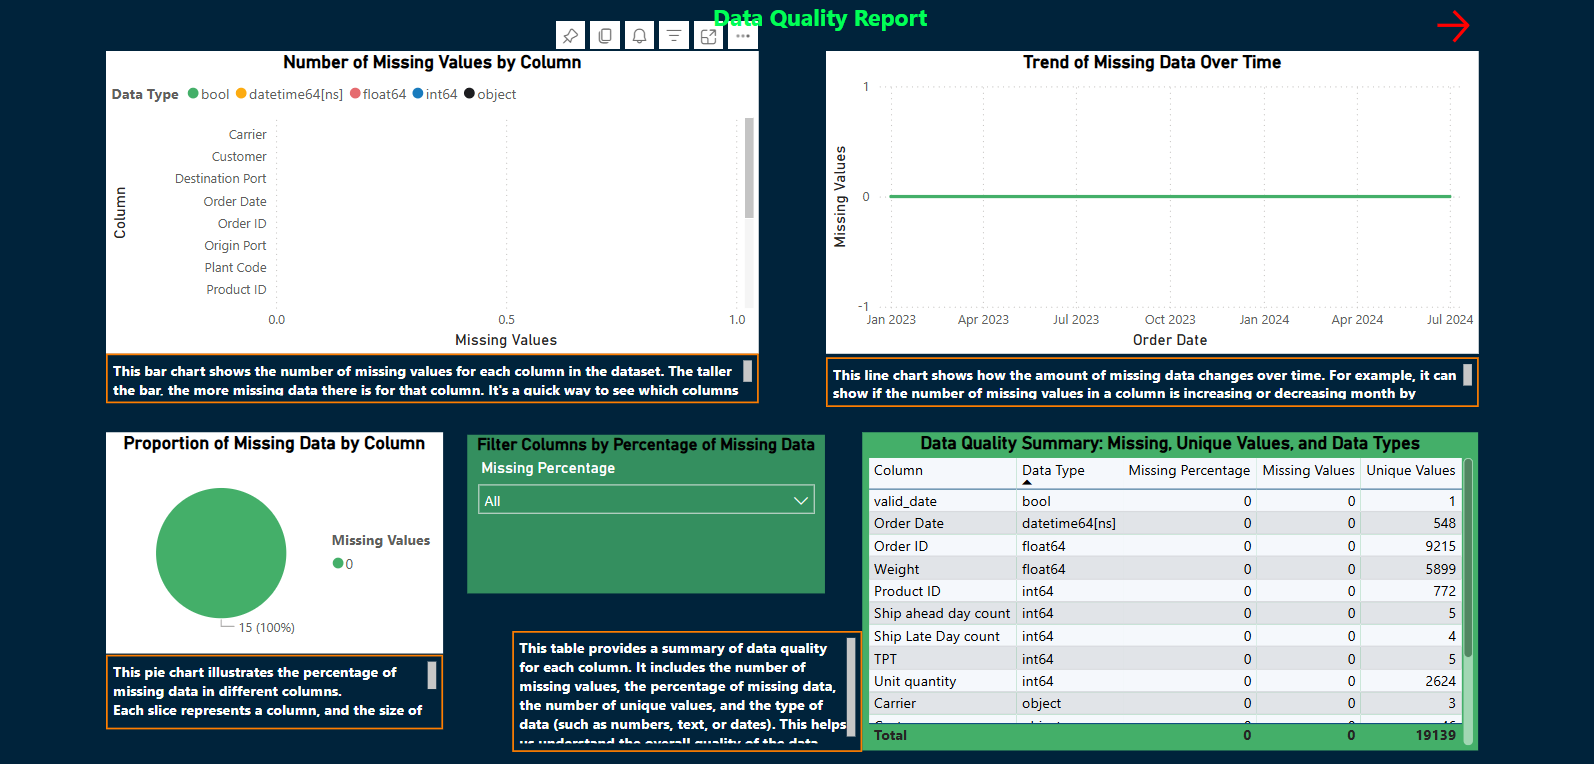

What the dashboard file says about the page in this screenshot:
{"tool":"powerbi","page":{"name":"Data Quality Report","canvas":[1280,720],"ordinal":1},"visuals":[{"type":"actionButton","box":[1236.3,8.6,41.6,40.4],"z":0},{"type":"clusteredBarChart","title":"Number of Missing Values by Column","fields":{"Y":["Sum(data_quality_report.Missing Values)"],"Category":["data_quality_report.Column"],"Series":["data_quality_report.Data Type"]},"box":[0,51.4,609,282.5],"z":1000},{"type":"pieChart","title":"Proportion of Missing Data by Column","fields":{"Y":["CountNonNull(data_quality_report.Column)"],"Category":["data_quality_report.Missing Values"]},"box":[0,407.4,314.3,206.7],"z":2000},{"type":"slicer","title":" Filter Columns by Percentage of Missing Data","fields":{"Values":["data_quality_report.Missing Percentage"]},"box":[337.5,408.7,333.8,148],"z":3000},{"type":"lineChart","title":"Trend of Missing Data Over Time","fields":{"Category":["Delivery_Time_Prediction_Data.Order Date"],"Y":["Sum(data_quality_report.Missing Values)"]},"box":[671.3,51.4,609,282.5],"z":4000},{"type":"textbox","box":[0,333.8,609,46.5],"z":5000},{"type":"textbox","box":[809.5,525.8,337.5,73.4],"z":6000},{"type":"tableEx","title":"Data Quality Summary: Missing, Unique Values, and Data Types","fields":{"Values":["data_quality_report.Column","data_quality_report.Data Type","Sum(data_quality_report.Missing Percentage)","Sum(data_quality_report.Missing Values)","Sum(data_quality_report.Unique Values)"]},"box":[705.6,407.4,574.7,297.1],"z":7000},{"type":"textbox","box":[671.3,337.5,609,46.5],"z":8000},{"type":"textbox","box":[0,614.1,314.3,69.7],"z":9000},{"type":"textbox","box":[379.1,592.1,326.5,112.5],"z":10000},{"type":"textbox","box":[377.2,0,576.7,40.4],"z":11000}]}

Visuals, with their boxes on the page's 1280x720 design canvas (x1, y1, x2, y2). These are canvas units, not pixel positions in the 1594x764 screenshot, which may show the page scaled, cropped or inside an application window:
actionButton: [x1=1236, y1=9, x2=1278, y2=49]
"Number of Missing Values by Column" clusteredBarChart: [x1=0, y1=51, x2=609, y2=334]
"Proportion of Missing Data by Column" pieChart: [x1=0, y1=407, x2=314, y2=614]
" Filter Columns by Percentage of Missing Data" slicer: [x1=338, y1=409, x2=671, y2=557]
"Trend of Missing Data Over Time" lineChart: [x1=671, y1=51, x2=1280, y2=334]
textbox: [x1=0, y1=334, x2=609, y2=380]
textbox: [x1=810, y1=526, x2=1147, y2=599]
"Data Quality Summary: Missing, Unique Values, and Data Types" tableEx: [x1=706, y1=407, x2=1280, y2=704]
textbox: [x1=671, y1=338, x2=1280, y2=384]
textbox: [x1=0, y1=614, x2=314, y2=684]
textbox: [x1=379, y1=592, x2=706, y2=705]
textbox: [x1=377, y1=0, x2=954, y2=40]
